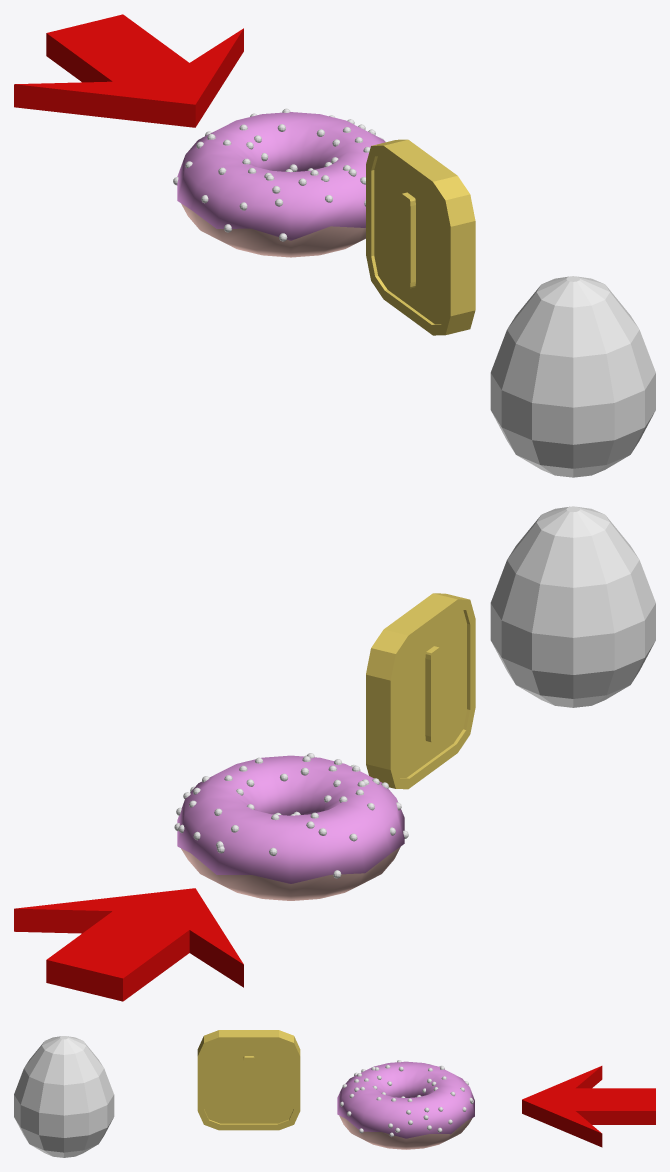
File: items.fbx
3 renders of one model, top to bottom at view 1: azimuth 30°, elevation 25°; view 2: azimuth 150°, elevation 25°; view 3: azimuth 270°, elevation 25°, orthographic. The views are drawn at different scales.
Parts seen in each view (by area): view 1: Sphere, Torus, Cube, Cube.001; view 2: Torus, Sphere, Cube, Cube.001; view 3: Cube, Torus, Sphere, Cube.001.
Part boxes in pixels (x1,y1,x2,y2): Sphere: (490,276,655,477); Torus: (173,108,385,257); Cube: (366,139,475,335); Cube.001: (14,14,243,127); Torus: (174,753,408,900); Sphere: (490,506,655,707); Cube: (366,593,475,789); Cube.001: (14,888,243,1001); Cube: (197,1030,300,1130); Torus: (337,1060,474,1149); Sphere: (14,1036,114,1157); Cube.001: (522,1066,655,1147).
Size of the model in its own units: 313 by 255 by 1250.
